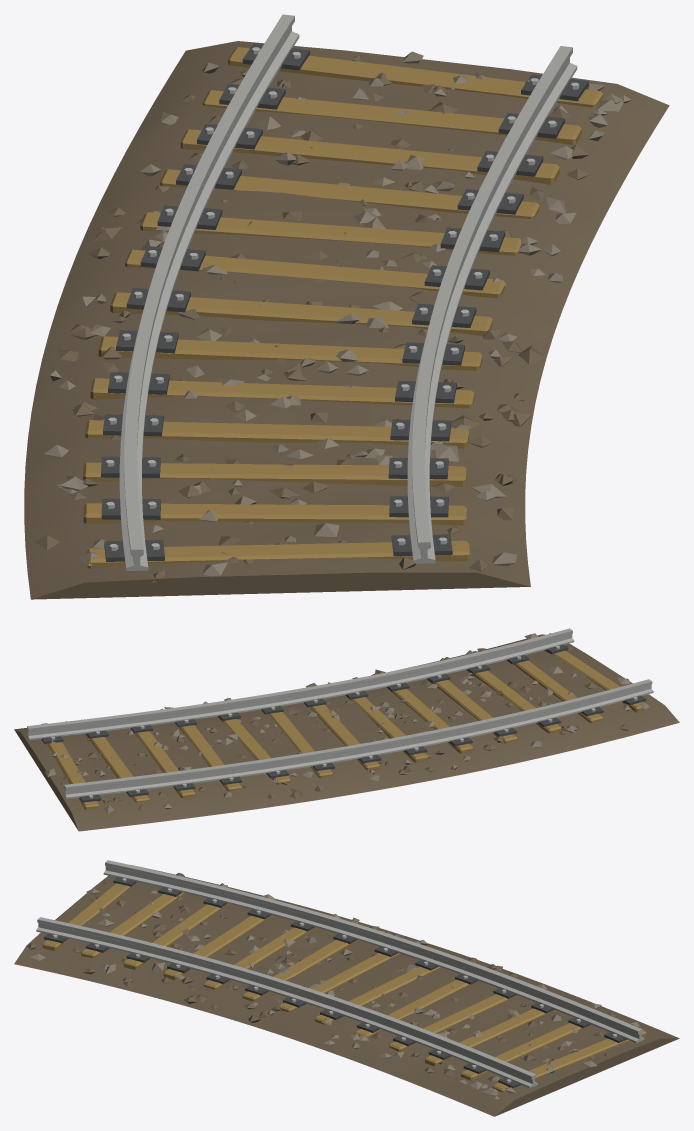
The model's file is curved-rail-b-ne.glb.
The picture shows the model from 3 angles, top to bottom: view 1: azimuth 30°, elevation 25°; view 2: azimuth 150°, elevation 25°; view 3: azimuth 270°, elevation 25°; orthographic projection. The views are drawn at different scales.
Visible parts, largest first — view 1: body; view 2: body; view 3: body.
Part boxes in pixels (bbox=[...]): body: bbox=[24, 14, 669, 599]; body: bbox=[14, 628, 679, 831]; body: bbox=[14, 860, 679, 1116].
Size of the model in its own units: 4.63 by 0.222 by 5.18.
